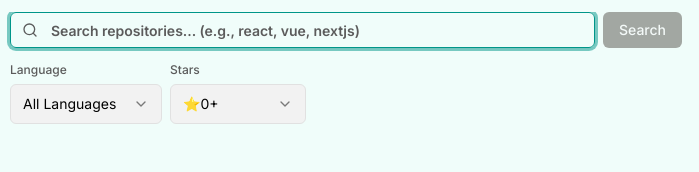
it: Search Flow Integration › basic search › enables search button when input has value
Step 1. Type "react" into the field with placeholder "Search repositories... (e.g., react, vue, nextjs)" → (302, 30), box [10,12,595,48]
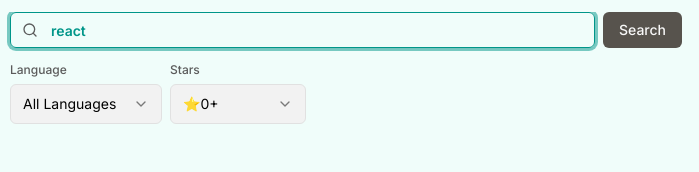
Expected: the button "Search" is enabled, [603,12,682,48]
